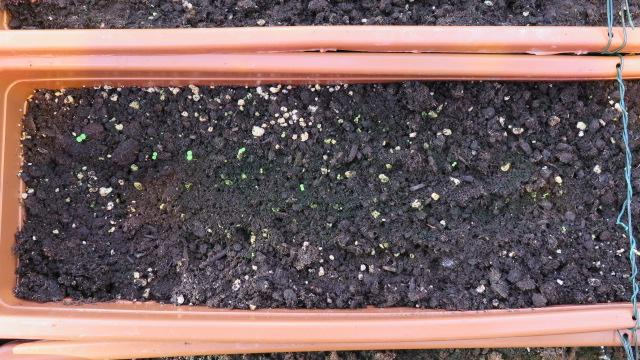weed: (180, 147, 194, 161), (71, 132, 87, 142), (147, 149, 160, 160), (445, 159, 459, 167)
